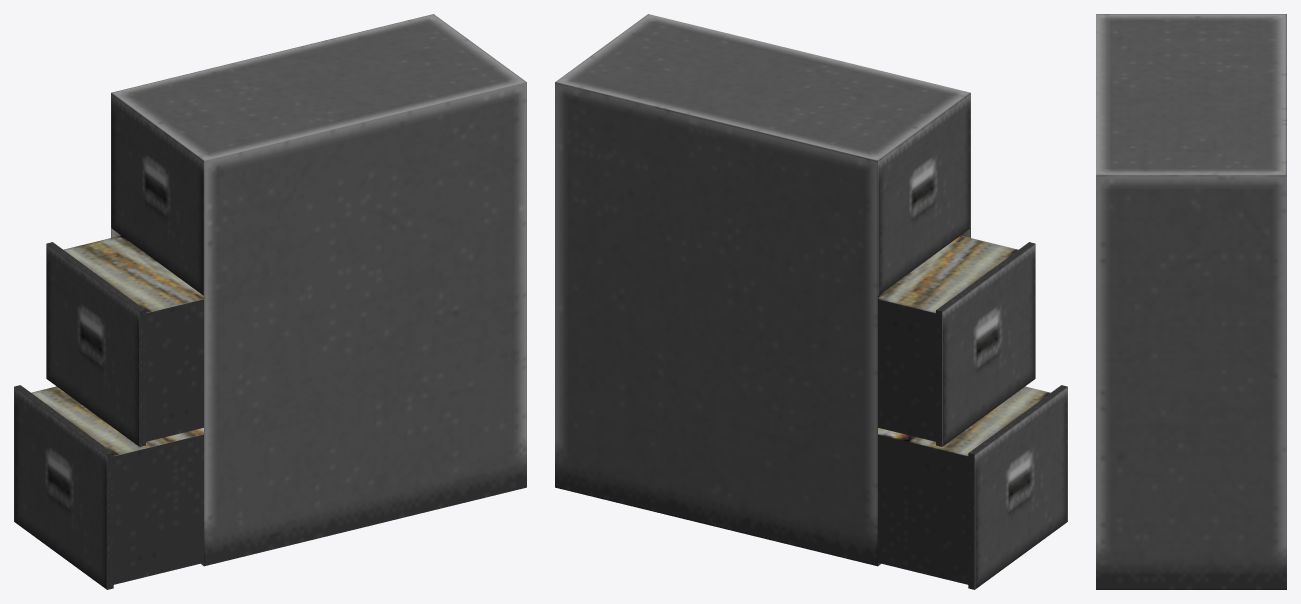
File: `ลิ้นชัก_ALEX.fbx
3 views of the same model, side by side, from view 1: azimuth 30°, elevation 25°; view 2: azimuth 150°, elevation 25°; view 3: azimuth 270°, elevation 25° (orthographic). The views are drawn at different scales.
Visible parts, largest first — view 1: file_cabinet02; view 2: file_cabinet02; view 3: file_cabinet02.
Boxes of the visible parts, box(x1,y1,x2,y2) form: file_cabinet02: box(14, 14, 526, 589); file_cabinet02: box(555, 14, 1067, 589); file_cabinet02: box(1096, 14, 1286, 589).
Bounding box in the file's own units: 50 × 120 × 130.
